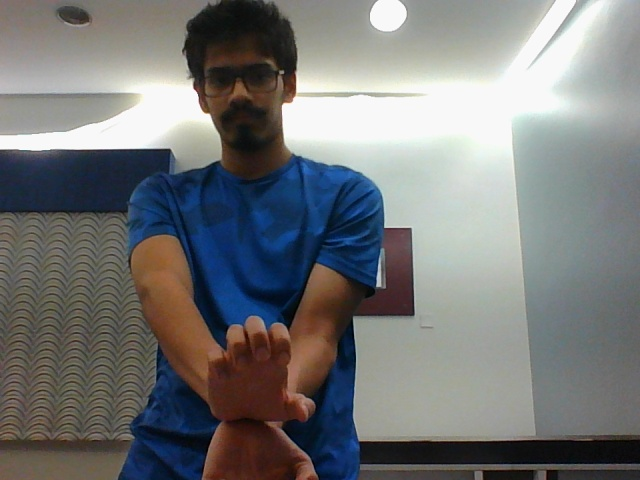blast: (188, 315, 326, 478)
